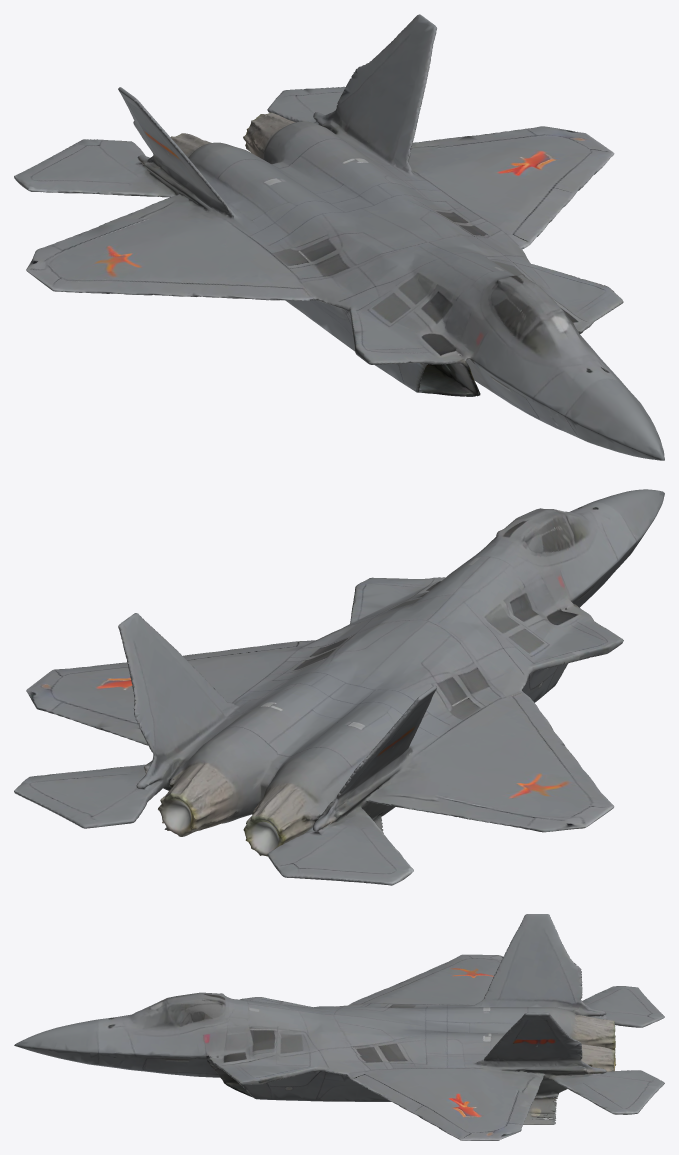
File: hero.glb
3 renders of one model, top to bottom at view 1: azimuth 30°, elevation 25°; view 2: azimuth 150°, elevation 25°; view 3: azimuth 270°, elevation 25°, orthographic. The views are drawn at different scales.
Visible parts, largest first — view 1: tripo_node_036c1ffa-b80c-493e-a2b7-74bb77f94a83; view 2: tripo_node_036c1ffa-b80c-493e-a2b7-74bb77f94a83; view 3: tripo_node_036c1ffa-b80c-493e-a2b7-74bb77f94a83.
Part boxes in pixels (x1,y1,x2,y2): tripo_node_036c1ffa-b80c-493e-a2b7-74bb77f94a83: [14, 14, 664, 460]; tripo_node_036c1ffa-b80c-493e-a2b7-74bb77f94a83: [14, 489, 664, 885]; tripo_node_036c1ffa-b80c-493e-a2b7-74bb77f94a83: [14, 914, 664, 1140].
Bounding box in the file's own units: 0.6745 × 0.2185 × 1.
1 material, 1 textured.
